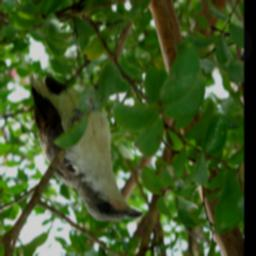Cuckoo: (28, 69, 142, 224)
